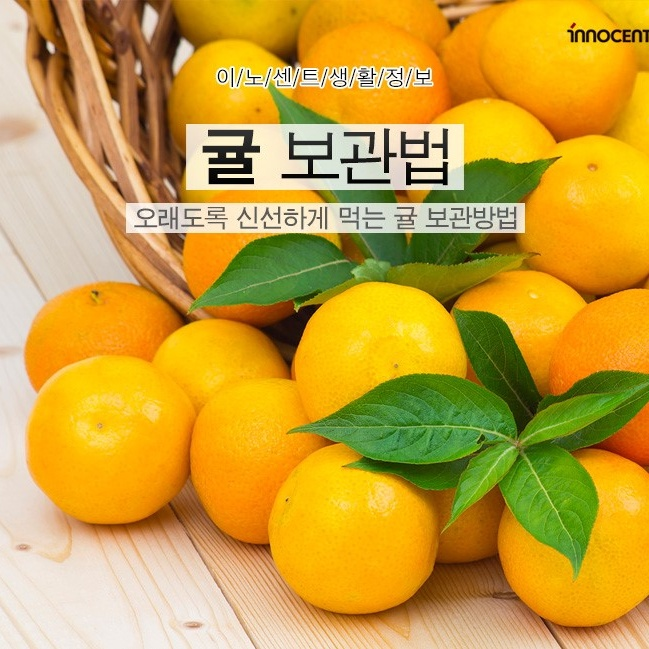mandarin: (23, 352, 196, 524), (269, 442, 434, 615), (499, 448, 649, 632), (293, 285, 468, 436), (476, 1, 638, 152), (514, 133, 649, 297), (193, 376, 325, 541), (184, 189, 332, 322), (25, 281, 184, 399), (545, 289, 649, 465), (289, 28, 452, 131), (445, 268, 587, 383), (168, 35, 297, 161), (158, 320, 291, 411), (431, 95, 554, 160), (168, 1, 306, 50)
